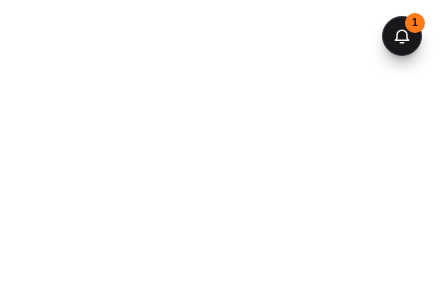
Scenario: campana de notificaciones › marca al abrir, descuenta y navega a la referencia
What coordinates should you click on to do the following:
click the button named "Notificaciones,"
I would click on:
 (402, 36)
Its box is [382,16,422,56].
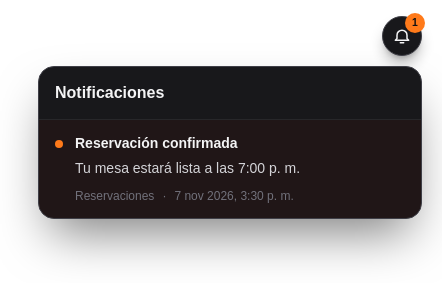
What coordinates should you click on to do the following:
click the button "Reservación confirmada"
I would click on:
 (230, 169)
Its box is [39,120,421,218].
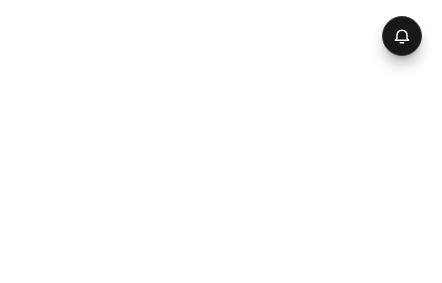
Check: the text "1" is gone
